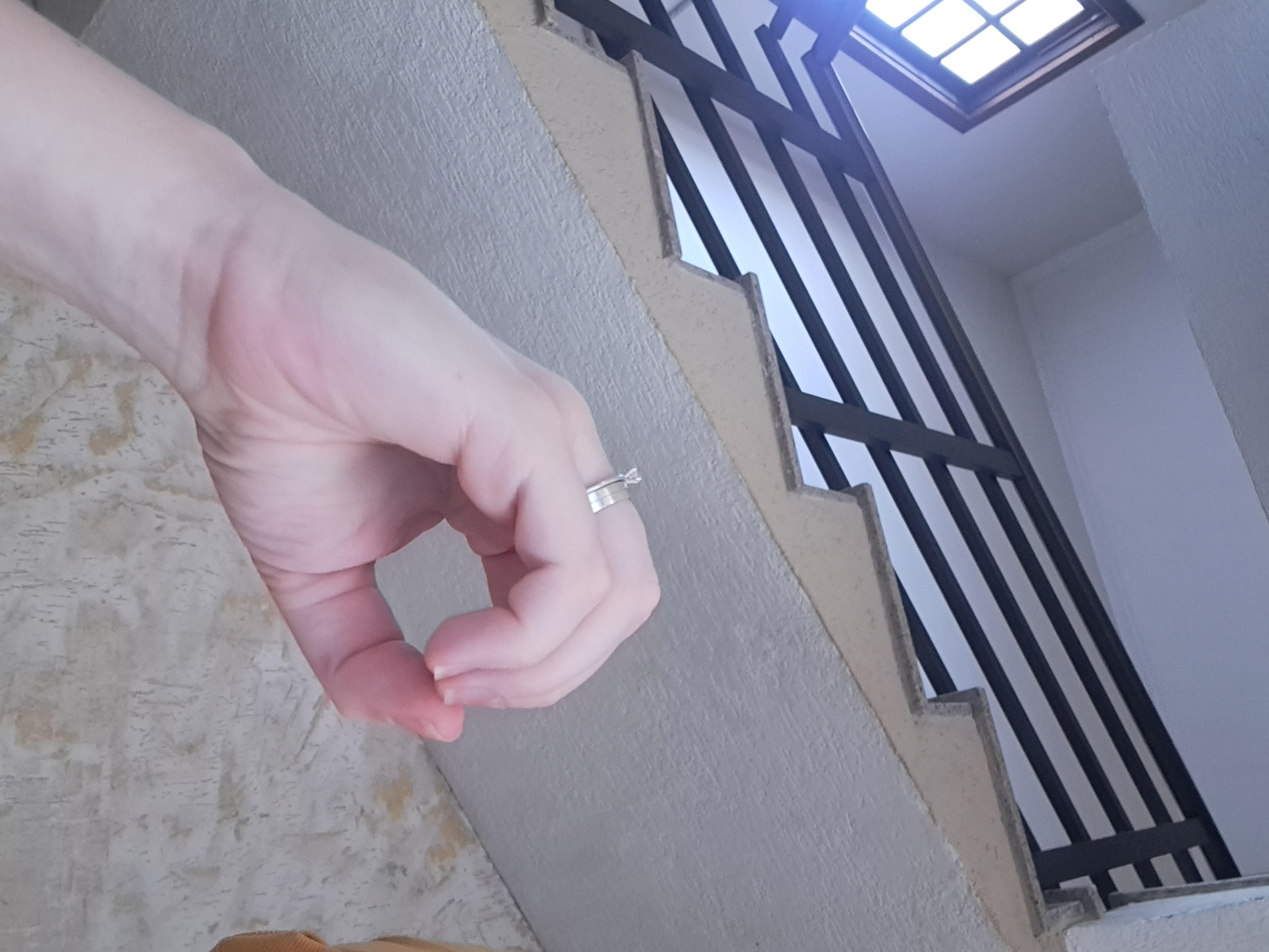O: (280, 438, 1011, 814)
